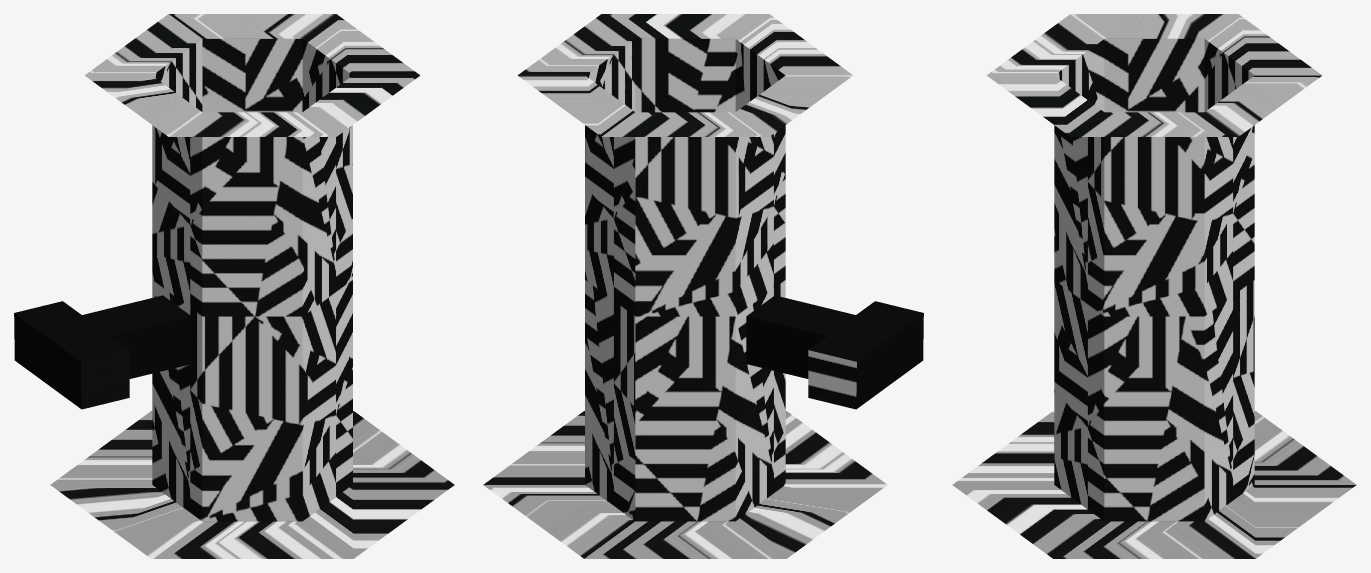
File: safa.glb
3 renders of one model, left to right at view 1: azimuth 30°, elevation 25°; view 2: azimuth 150°, elevation 25°; view 3: azimuth 270°, elevation 25°, orthographic.
Visible parts, largest first — view 1: safa; view 2: safa; view 3: safa.
Boxes of the visible parts, x1=… form: safa: x1=14, y1=14, x2=454, y2=558; safa: x1=483, y1=14, x2=923, y2=558; safa: x1=952, y1=14, x2=1356, y2=558.
Bounding box in the file's own units: 30.04 × 32.95 × 29.51.
Materials: 2 (1 with a texture image).
